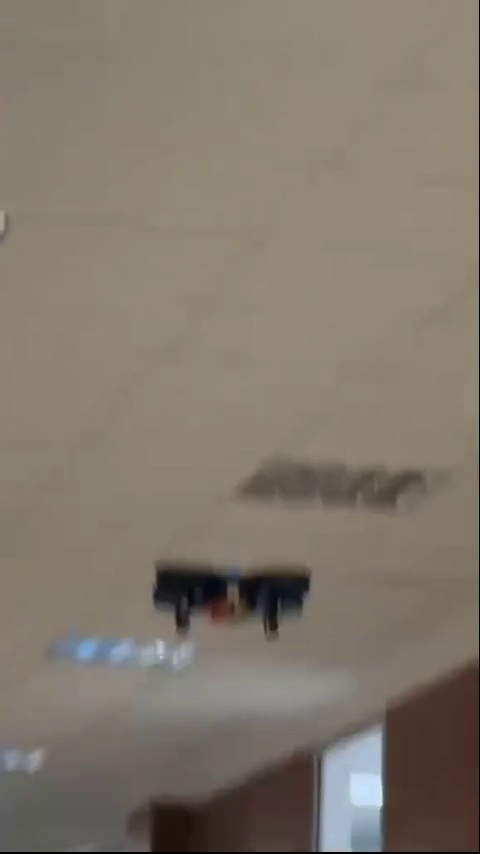drone: (156, 563, 312, 640)
